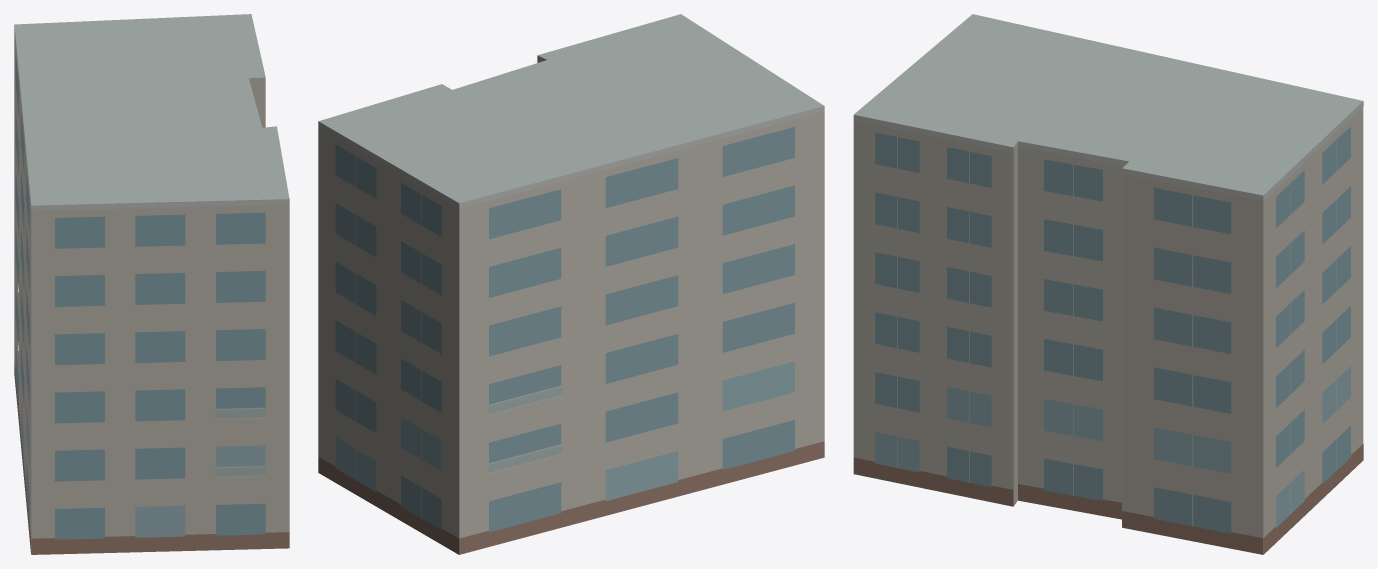
The model's file is survey-upis-32915876.glb.
The picture shows the model from 3 angles, left to right: view 1: azimuth 30°, elevation 25°; view 2: azimuth 150°, elevation 25°; view 3: azimuth 270°, elevation 25°; orthographic projection. The views are drawn at different scales.
Visible parts, largest first — view 1: survey-upis-32915876.tmp; view 2: survey-upis-32915876.tmp; view 3: survey-upis-32915876.tmp.
Part boxes in pixels (box(x1,y1,x2,y2)): survey-upis-32915876.tmp: box(14, 14, 289, 554); survey-upis-32915876.tmp: box(318, 14, 824, 554); survey-upis-32915876.tmp: box(853, 14, 1363, 554).
Size of the model in its own units: 16.91 by 15.6 by 20.07.
